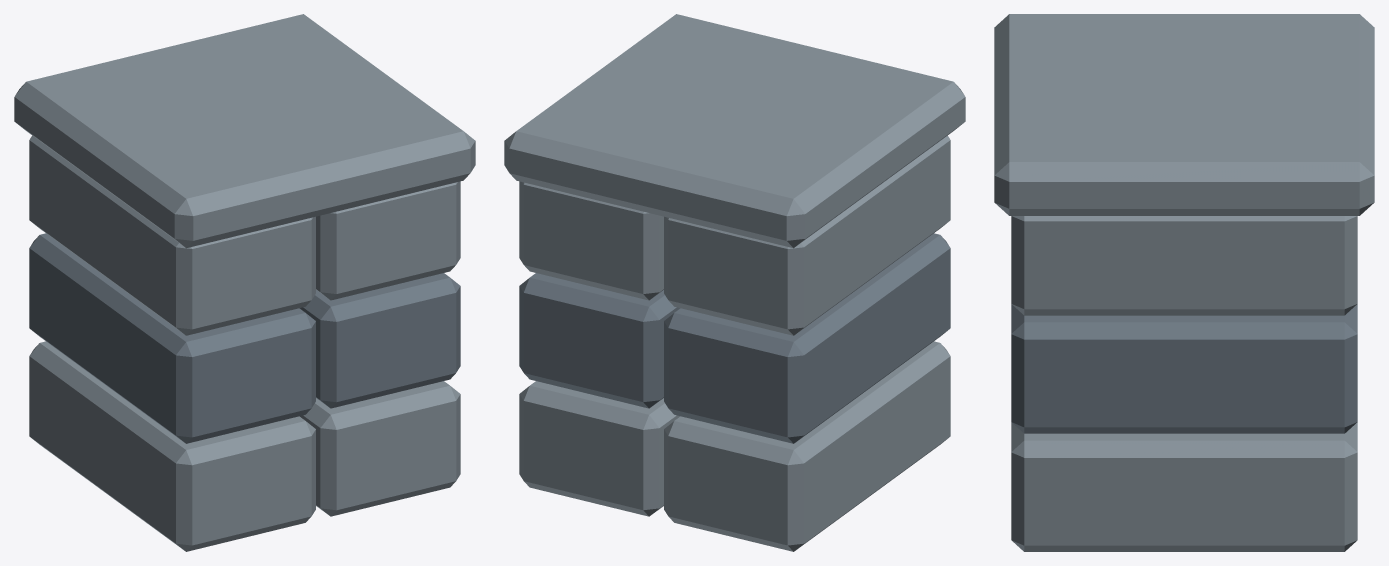
File: wall.glb
3 views of the same model, side by side, from view 1: azimuth 30°, elevation 25°; view 2: azimuth 150°, elevation 25°; view 3: azimuth 270°, elevation 25° (orthographic). The views are drawn at different scales.
Parts seen in each view (by area): view 1: wall; view 2: wall; view 3: wall.
Boxes of the visible parts, x1,y1,x2,y2 form: wall: (14,14,475,551); wall: (504,14,965,551); wall: (994,14,1374,551).
Size of the model in its own units: 1.02 by 1.17 by 1.02.
